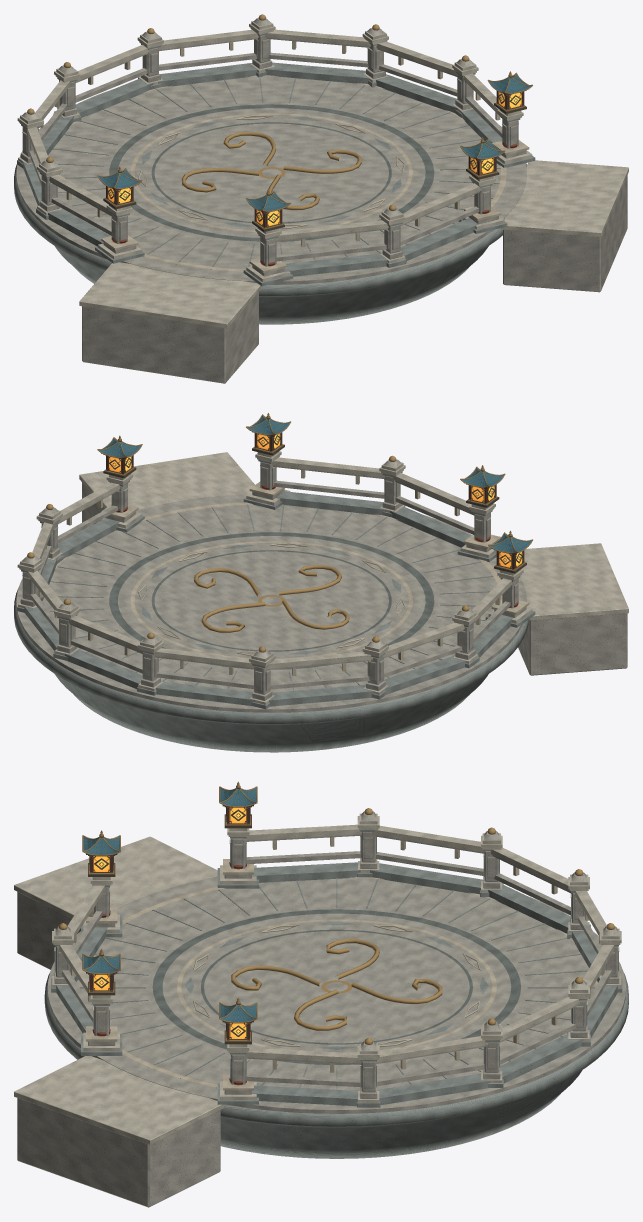
3 views of the same model, one above another, from view 1: azimuth 30°, elevation 25°; view 2: azimuth 150°, elevation 25°; view 3: azimuth 270°, elevation 25° (orthographic). The views are drawn at different scales.
Parts seen in each view (by area): view 1: C04_stone, C04_light, C04_cool, C04_relief, C04_joint, C04_motif, C04_blue, C04_gold, C04_bronze, C04_paper, C04_teal, C04_wood; view 2: C04_stone, C04_cool, C04_light, C04_relief, C04_joint, C04_motif, C04_blue, C04_gold, C04_bronze, C04_paper, C04_teal, C04_wood; view 3: C04_stone, C04_cool, C04_light, C04_relief, C04_joint, C04_motif, C04_blue, C04_gold, C04_bronze, C04_teal, C04_paper.
Boxes of the visible parts, <box> form: C04_stone: <box>16,18,627,383</box>; C04_light: <box>17,21,628,328</box>; C04_cool: <box>14,33,535,324</box>; C04_relief: <box>33,41,529,272</box>; C04_joint: <box>109,104,434,241</box>; C04_motif: <box>27,14,469,210</box>; C04_blue: <box>98,74,530,210</box>; C04_gold: <box>97,71,532,229</box>; C04_bronze: <box>103,90,526,231</box>; C04_paper: <box>108,92,521,226</box>; C04_teal: <box>102,76,528,210</box>; C04_wood: <box>106,91,524,228</box>; C04_stone: <box>16,459,627,712</box>; C04_cool: <box>14,459,535,752</box>; C04_light: <box>17,451,628,704</box>; C04_relief: <box>38,470,529,675</box>; C04_joint: <box>109,532,434,669</box>; C04_motif: <box>27,455,469,652</box>; C04_blue: <box>99,416,531,552</box>; C04_gold: <box>97,413,532,570</box>; C04_bronze: <box>103,432,526,573</box>; C04_paper: <box>109,433,522,567</box>; C04_teal: <box>102,418,529,552</box>; C04_wood: <box>101,432,524,569</box>; C04_stone: <box>17,811,625,1207</box>; C04_cool: <box>44,830,628,1158</box>; C04_light: <box>14,813,621,1144</box>; C04_relief: <box>71,837,604,1090</box>; C04_joint: <box>152,909,520,1064</box>; C04_motif: <box>59,808,614,1044</box>; C04_blue: <box>83,788,256,1021</box>; C04_gold: <box>82,781,257,1041</box>; C04_bronze: <box>88,806,251,1044</box>; C04_teal: <box>83,788,256,1021</box>; C04_paper: <box>93,807,246,1038</box>.
Bounding box in the file's own units: 11.18 × 2.89 × 9.57.
13 materials, 6 textured.
